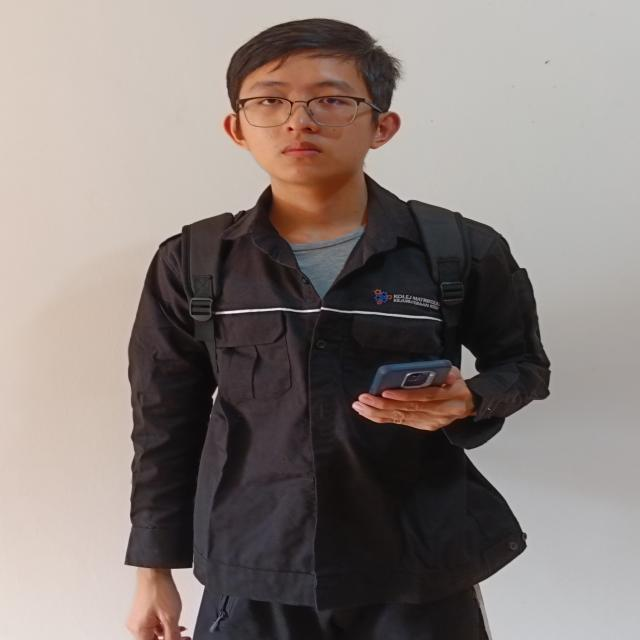person_with_labcoat: (126, 19, 549, 640)
